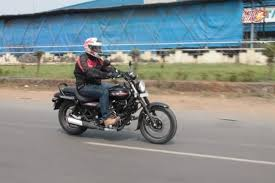helmet: (83, 37, 103, 60)
